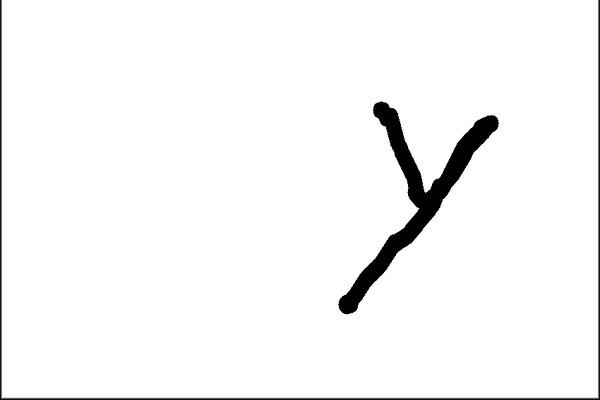Y: (316, 85, 529, 321)
